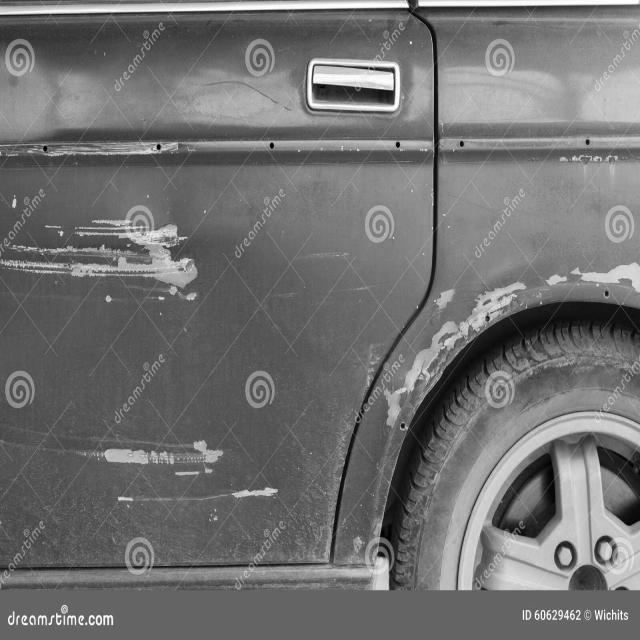dent: (85, 138, 268, 273)
scratch: (378, 255, 640, 439), (0, 184, 200, 308), (2, 423, 229, 479), (108, 482, 279, 529), (199, 77, 294, 113), (0, 142, 182, 160), (266, 286, 379, 306), (346, 516, 382, 565), (557, 153, 625, 169), (294, 249, 360, 261)
